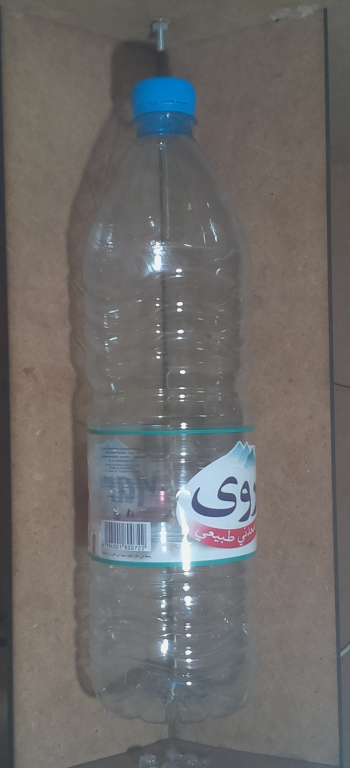Bouteille_1.5L: (71, 72, 266, 727)
